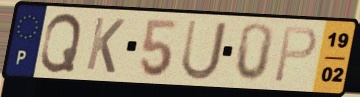0: (233, 21, 276, 85)
5: (138, 16, 180, 79)
K: (83, 15, 127, 76)
P: (271, 25, 320, 85)
Q: (38, 11, 84, 75)
U: (178, 17, 229, 82)
